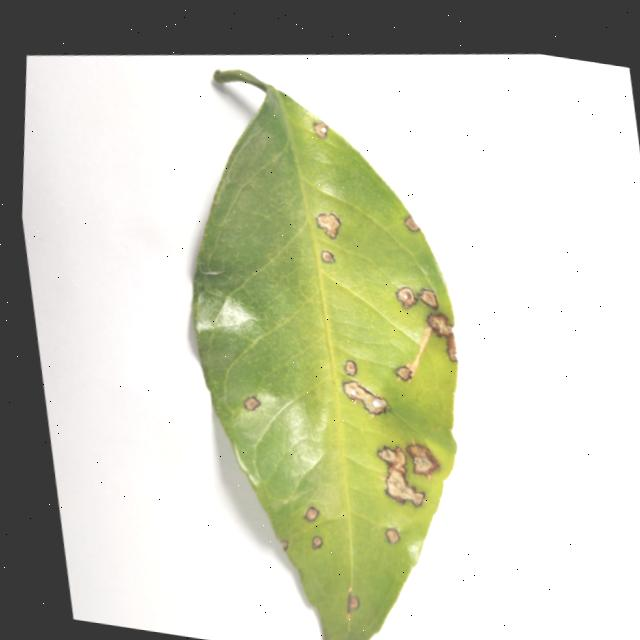antracnose: (191, 70, 456, 640), (375, 445, 423, 505), (342, 380, 386, 413), (426, 313, 455, 361), (405, 443, 437, 478), (315, 213, 339, 238), (395, 287, 415, 308), (417, 288, 436, 307), (242, 395, 259, 411), (403, 215, 418, 231), (302, 506, 318, 521), (394, 366, 411, 380), (312, 121, 326, 138), (346, 594, 358, 613), (384, 528, 398, 544), (343, 360, 355, 375), (319, 250, 334, 262), (311, 535, 321, 549)
